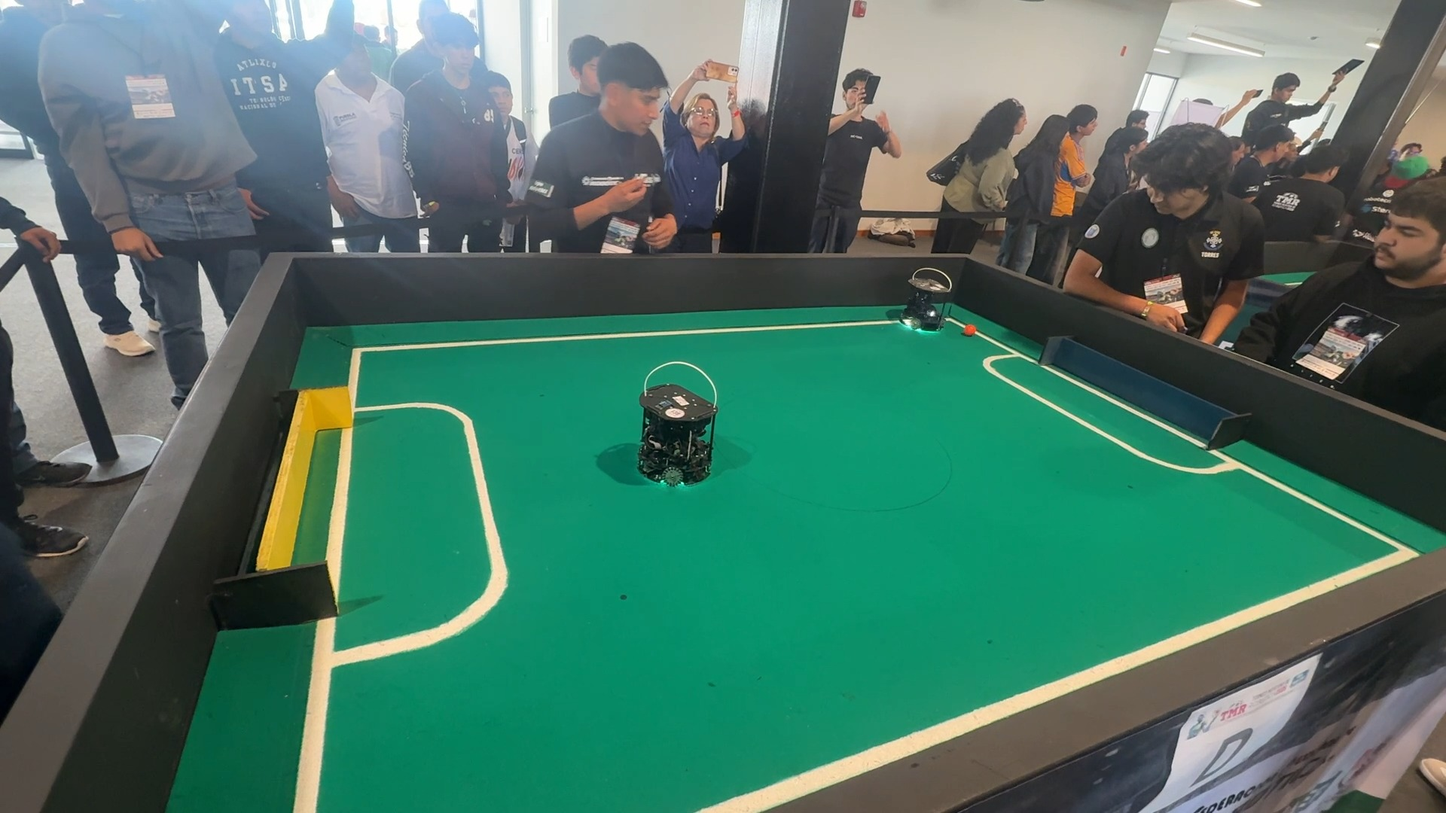Robot: (603, 379, 751, 500), (887, 264, 963, 344)
